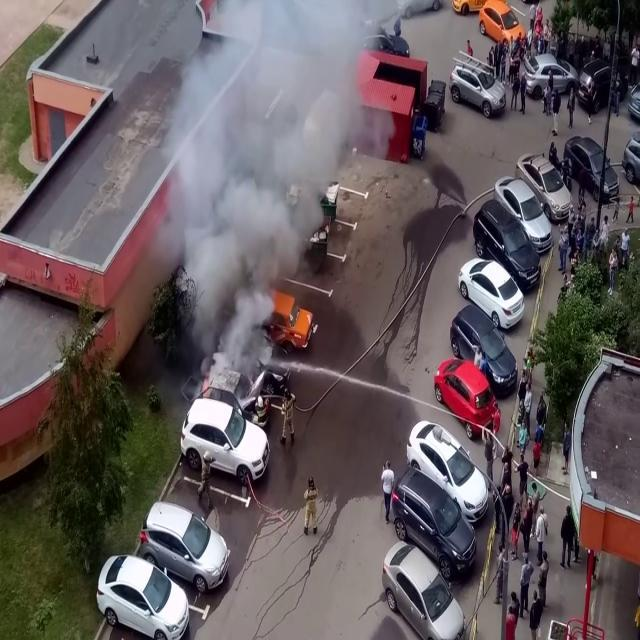Smoke: (157, 0, 380, 384)
